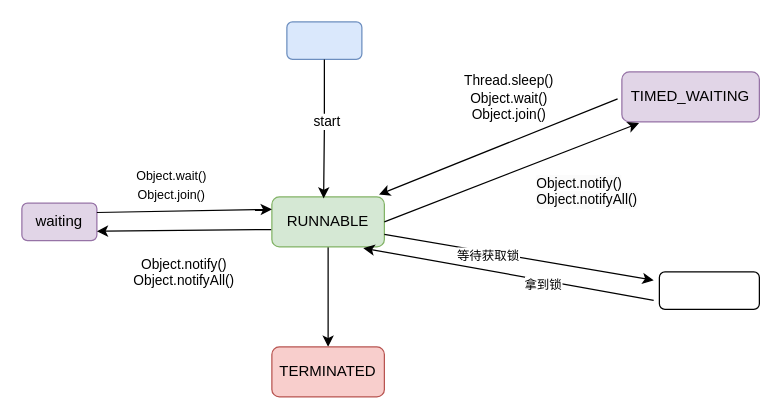
This 781x419 diagram has some shape labels left out. Here are the shapes that lost their labels. From the top down, the centre of each, then its label:
pixel 324 40: NEW
pixel 708 290: BLOCKED
